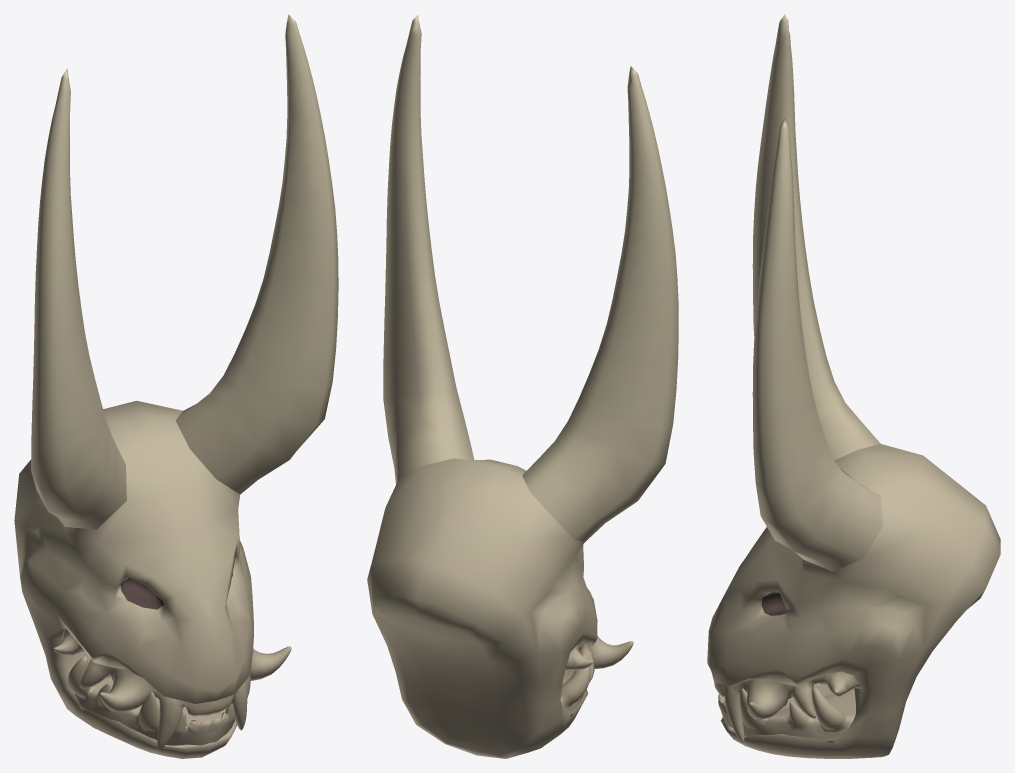
File: SM_Skull_Massive.fbx
3 renders of one model, left to right at view 1: azimuth 30°, elevation 25°; view 2: azimuth 150°, elevation 25°; view 3: azimuth 270°, elevation 25°, orthographic. The views are drawn at different scales.
Visible parts, largest first — view 1: SM_Skull_Massive; view 2: SM_Skull_Massive; view 3: SM_Skull_Massive.
Part boxes in pixels (left/top/right/bottom): SM_Skull_Massive: left=14, top=14, right=338, bottom=758; SM_Skull_Massive: left=367, top=14, right=678, bottom=758; SM_Skull_Massive: left=707, top=14, right=1000, bottom=758.
Bounding box in the file's own units: 1057 × 2408 × 941.
Materials: 1 (1 with a texture image).
